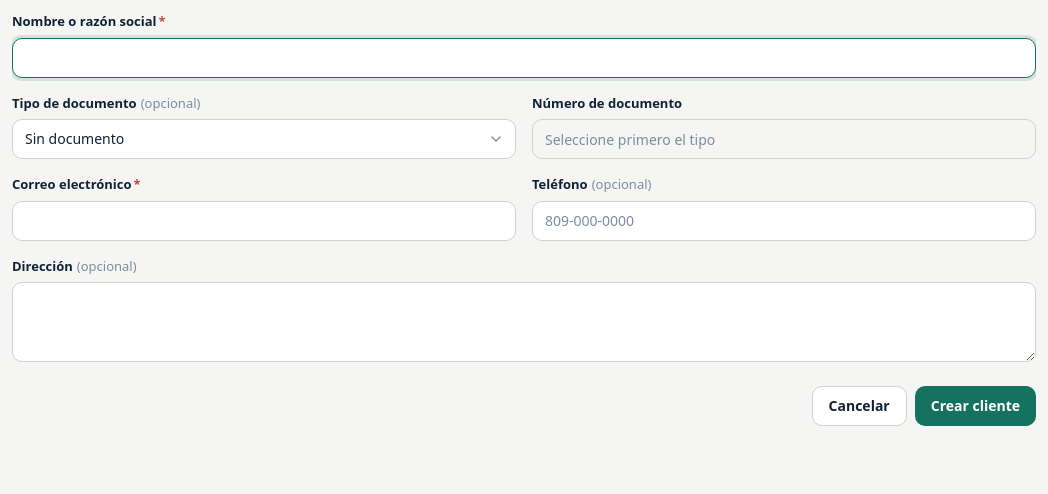
Scenario: ClientForm › requires the name and the email
Click the button "Crear cliente". click: click(975, 406)
box: x1=915 y1=386 x2=1036 y2=426
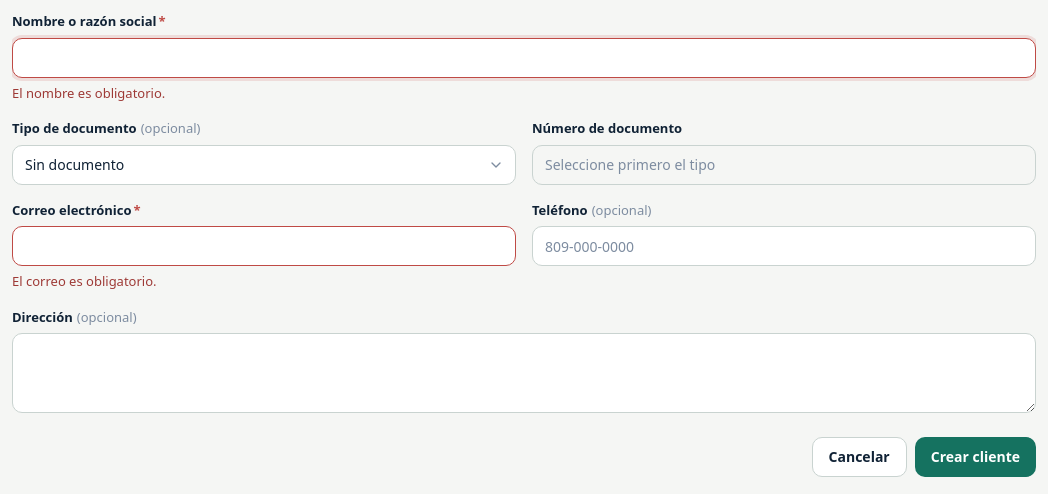
Expected: the text "El nombre es obligatorio." is shown, x1=12 y1=84 x2=165 y2=102
Expected: the text "El correo es obligatorio." is shown, x1=12 y1=272 x2=157 y2=290
